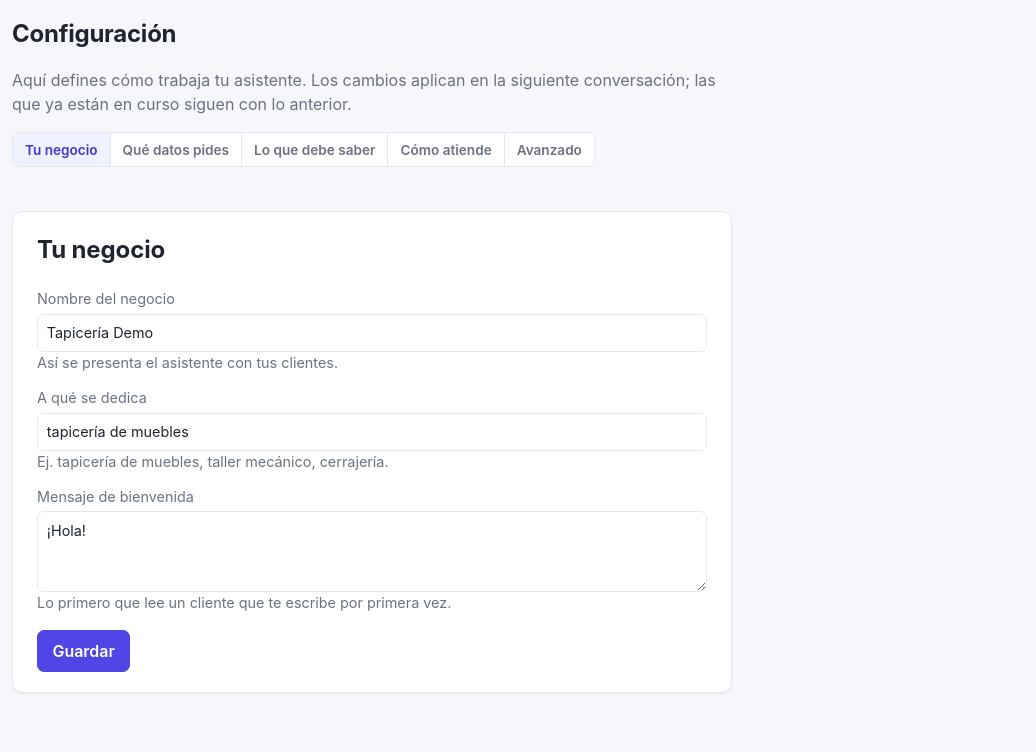
Test: quitar un dato avisa de la consecuencia antes de hacerlo
Expected: the field showing "Tapicería Demo" is shown, [37,314,707,352]
What coordinates should you click on to do the following:
click the tab "Qué datos pides"
I would click on:
 (176, 150)
Its box is [111,133,242,166].
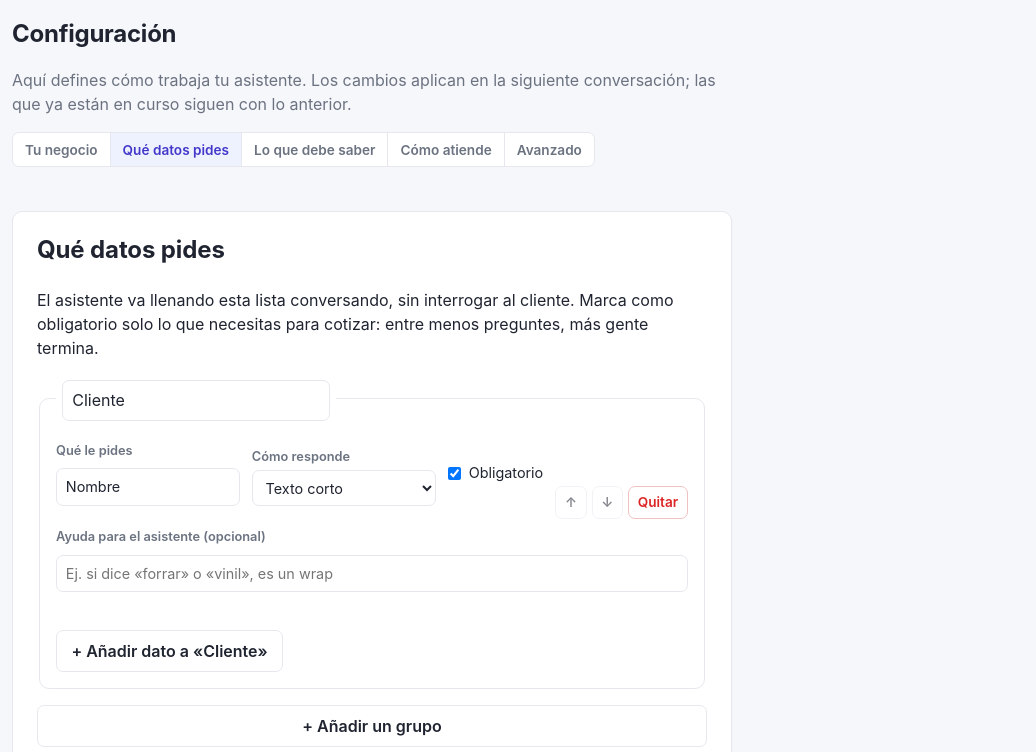
What coordinates should you click on to do the following:
click the button with aria-label "Quitar Nombre"
I would click on:
 (658, 503)
Its box is [628,486,688,519].
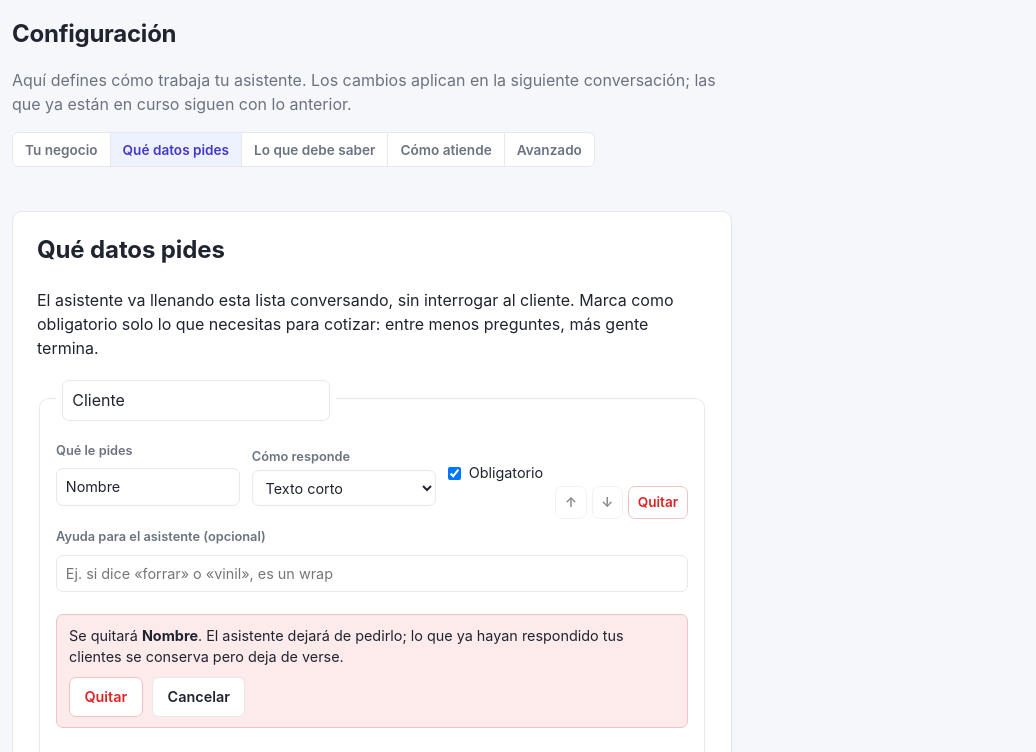
Expected: the text "deja de verse" is shown, [69,627,624,665]
